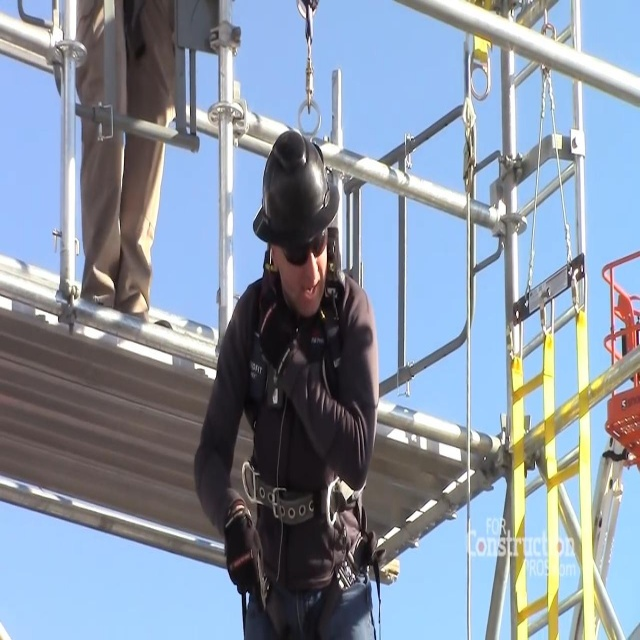Arnes_seguridad: (228, 187, 382, 640)
